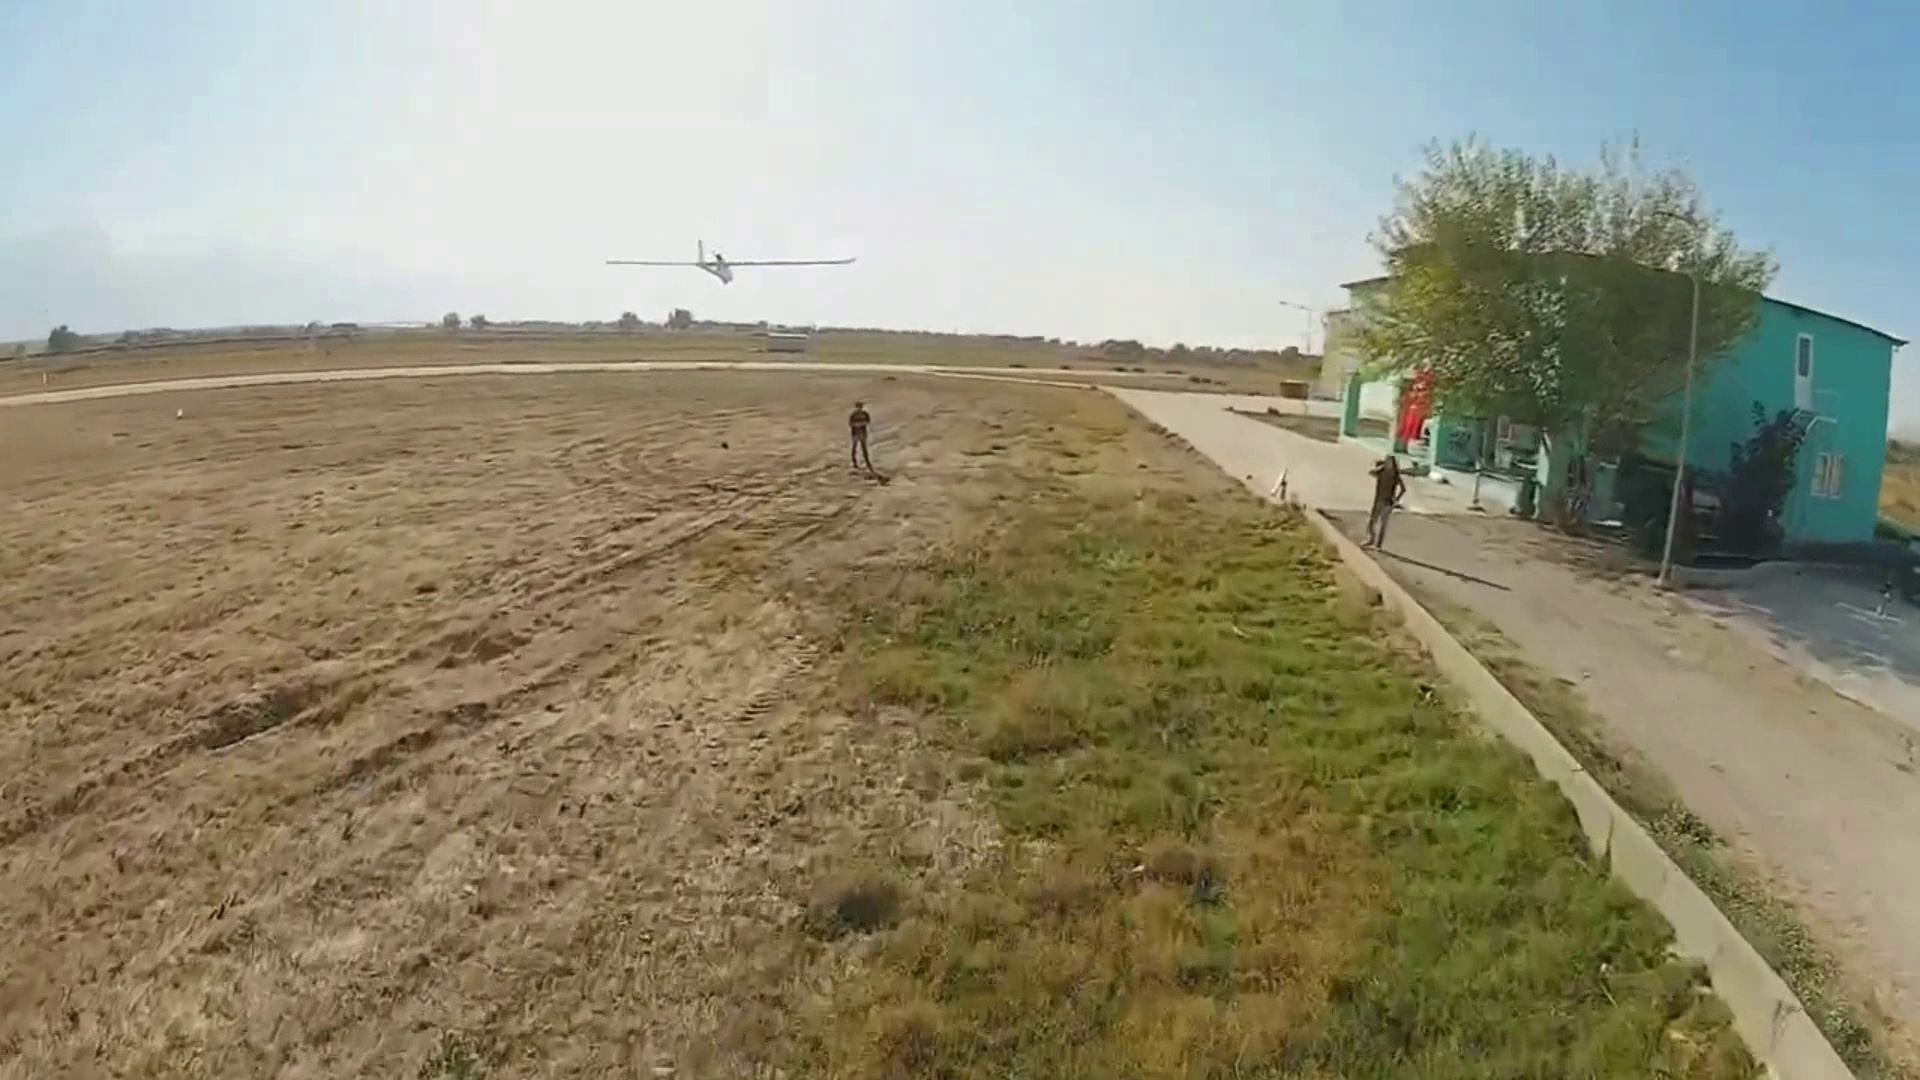airplane: (694, 241, 860, 284)
